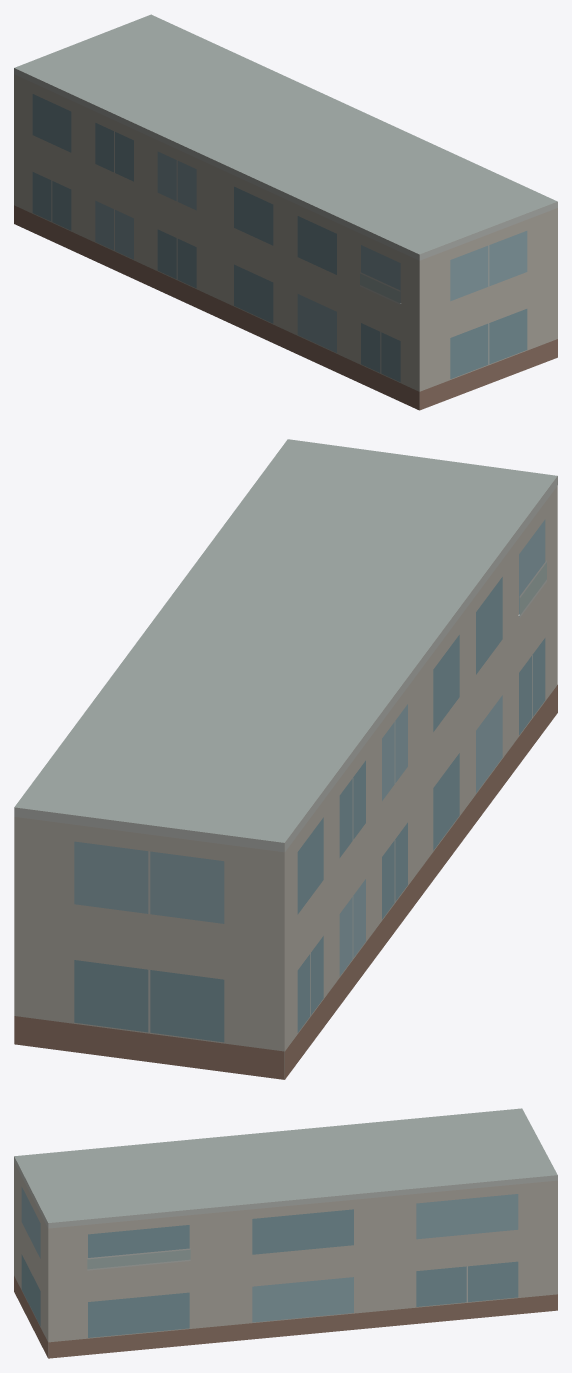
The model's file is survey-upis-32917213.glb.
The picture shows the model from 3 angles, top to bottom: view 1: azimuth 30°, elevation 25°; view 2: azimuth 150°, elevation 25°; view 3: azimuth 270°, elevation 25°; orthographic projection. The views are drawn at different scales.
Visible parts, largest first — view 1: survey-upis-32917213.tmp; view 2: survey-upis-32917213.tmp; view 3: survey-upis-32917213.tmp.
Boxes of the visible parts, x1=… form: survey-upis-32917213.tmp: x1=14, y1=14, x2=557, y2=410; survey-upis-32917213.tmp: x1=14, y1=439, x2=557, y2=1079; survey-upis-32917213.tmp: x1=14, y1=1108, x2=557, y2=1358.
Size of the model in its own units: 11.1 by 6.1 by 22.21.
